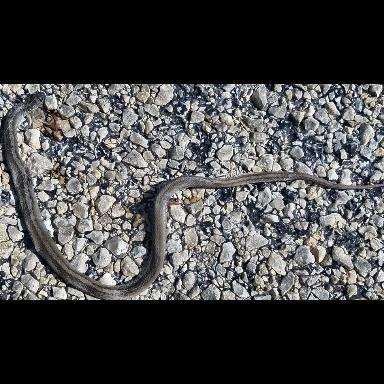snake: (1, 87, 384, 299)
